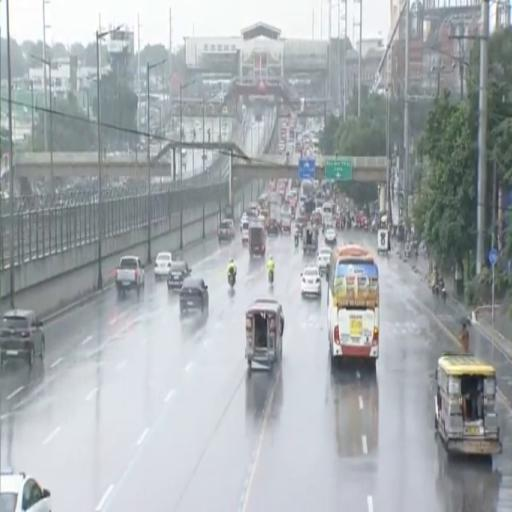bus: (328, 245, 379, 362), (322, 202, 334, 225)
car: (0, 310, 44, 365), (0, 469, 51, 511), (180, 277, 209, 315), (167, 262, 190, 291), (301, 266, 321, 296), (154, 252, 173, 280), (218, 219, 235, 243), (317, 248, 331, 274), (325, 228, 336, 245), (268, 219, 279, 235)
jeepney: (435, 354, 501, 455), (246, 299, 284, 370)
motorcycle: (228, 272, 235, 289), (432, 283, 438, 297), (441, 287, 446, 302), (268, 270, 273, 284), (294, 234, 299, 247)
truck: (116, 256, 145, 295), (248, 219, 266, 258), (303, 224, 318, 253), (268, 202, 280, 236), (281, 203, 292, 233)
